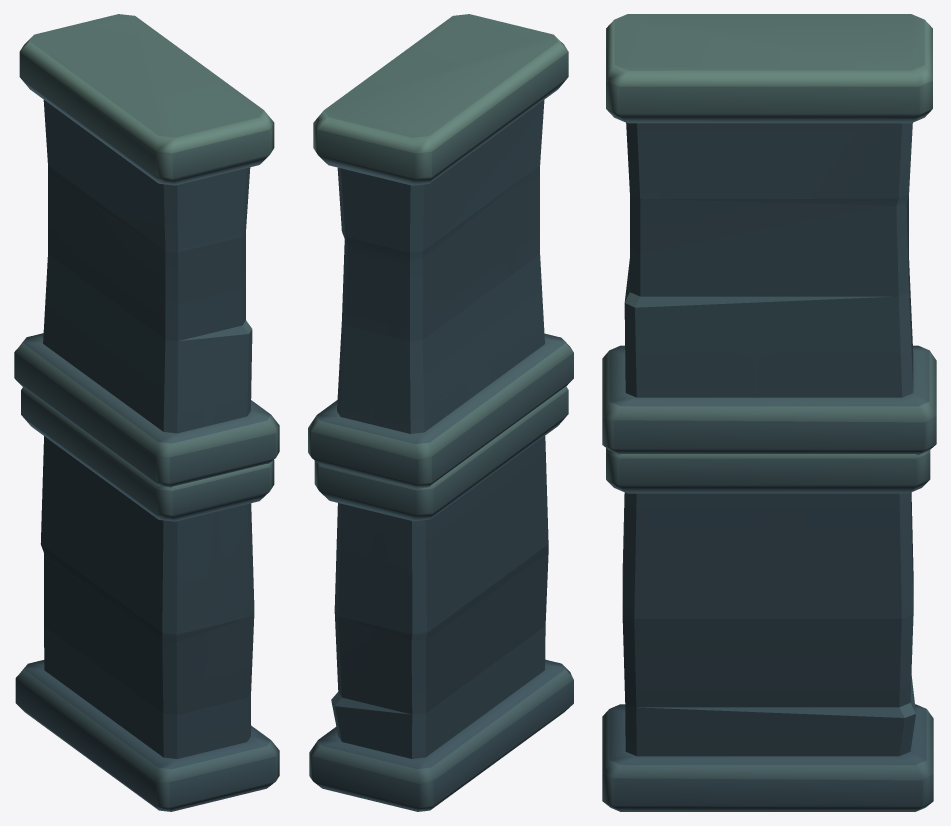
The model's file is pillar_narrow_2.fbx.
3 views of the same model, side by side, from view 1: azimuth 30°, elevation 25°; view 2: azimuth 150°, elevation 25°; view 3: azimuth 270°, elevation 25° (orthographic). The views are drawn at different scales.
Visible parts, largest first — view 1: pillar_narrow_2; view 2: pillar_narrow_2; view 3: pillar_narrow_2.
Boxes of the visible parts, x1,y1,x2,y2 form: pillar_narrow_2: (14, 14, 279, 811); pillar_narrow_2: (308, 14, 573, 811); pillar_narrow_2: (602, 14, 936, 811).
Size of the model in its own units: 80.07 by 415 by 170.
